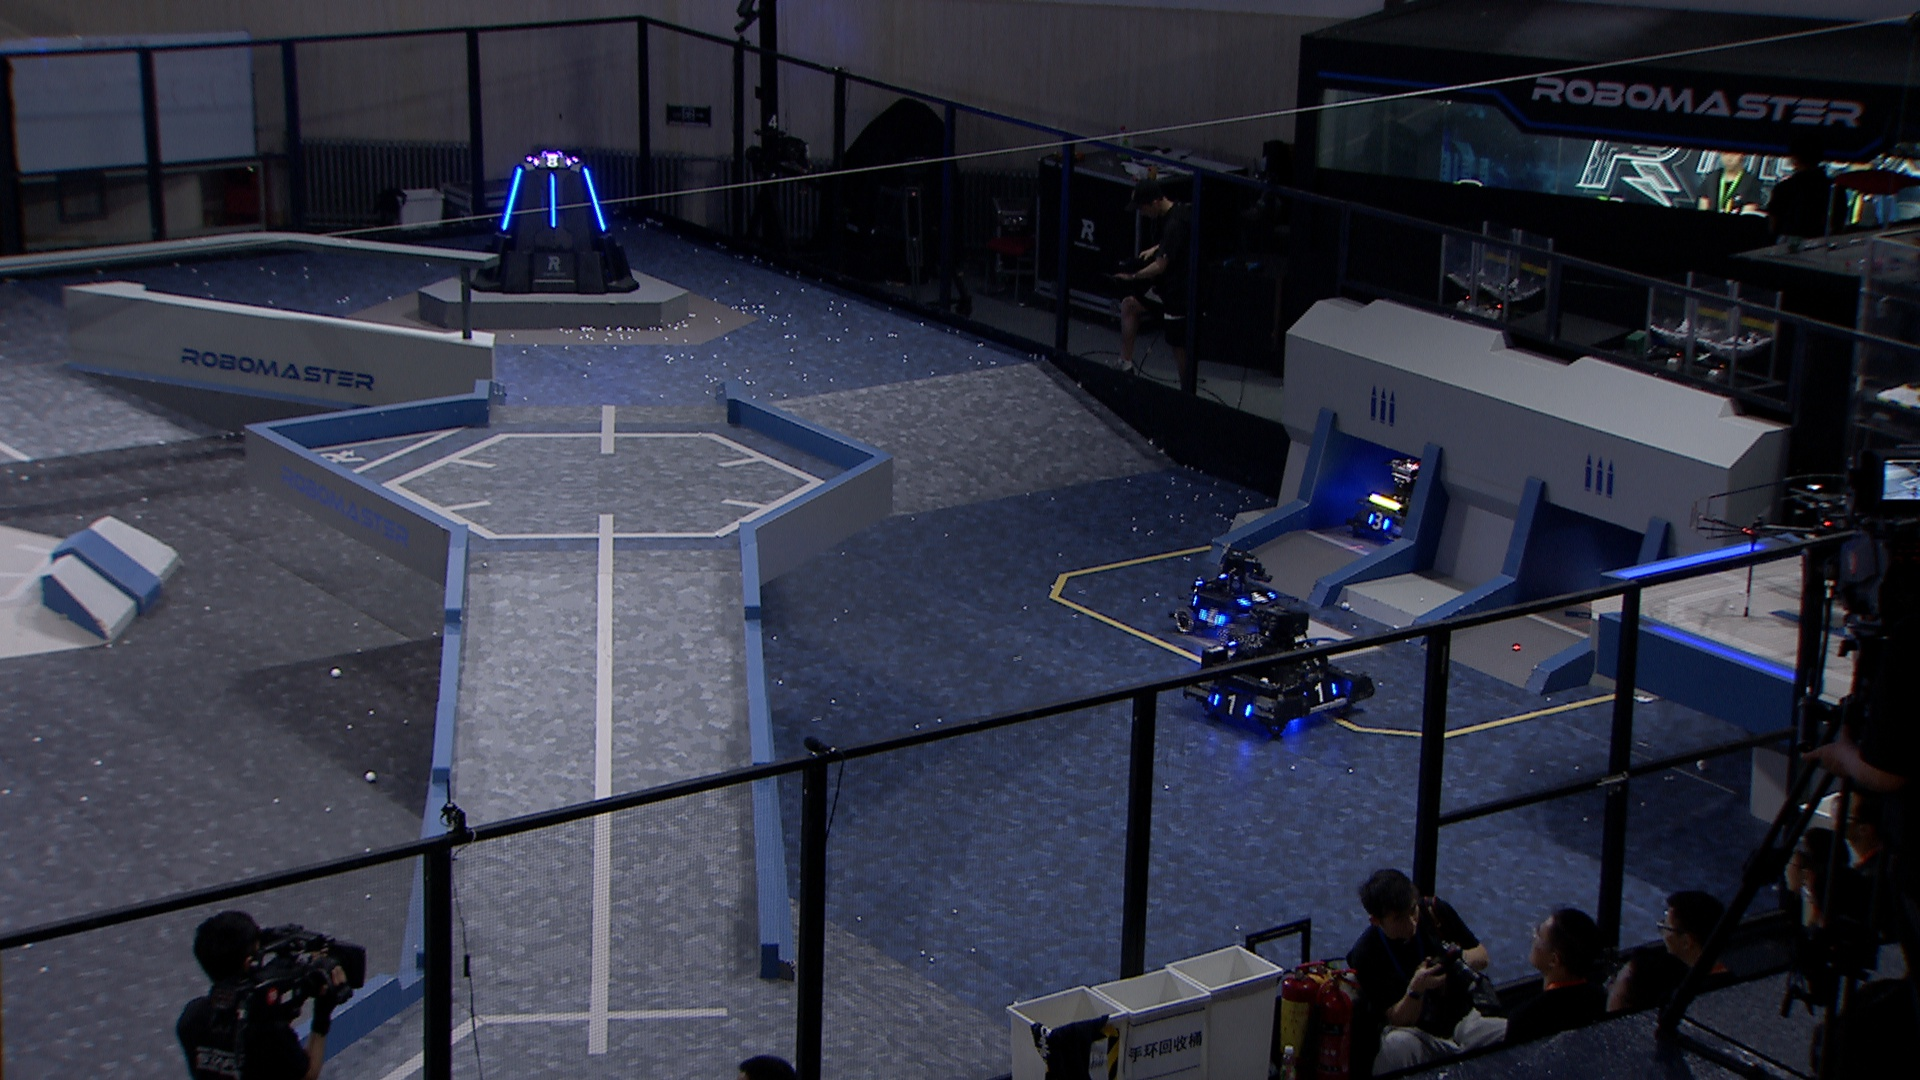armor: (580, 167, 609, 233), (496, 166, 524, 233), (1209, 694, 1255, 717), (1302, 680, 1338, 704), (1234, 589, 1280, 605), (1196, 608, 1228, 629), (1365, 510, 1391, 534), (549, 174, 558, 229)
base: (460, 148, 638, 295)
car: (1179, 599, 1375, 740), (1176, 543, 1290, 638), (1352, 458, 1443, 547)
ignore: (531, 154, 578, 171)
